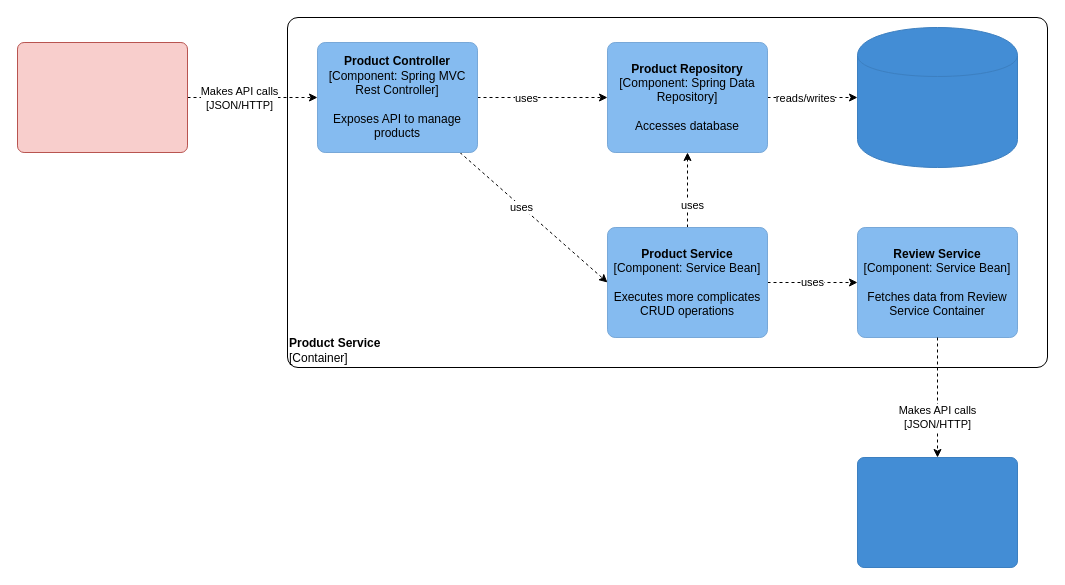
This 1065x585 diagram has some shape labels left out. The shapes that lost their labels are listed below. From the top down, each one's centre as x and y in pixels, then its label:
At [102,97]: "Web Application [Container: Not specified ] Not a part of SWA project scope".
At [937,97]: "Database [Container: Mongo DB]".
At [937,512]: "Review Service [Container: ]".
